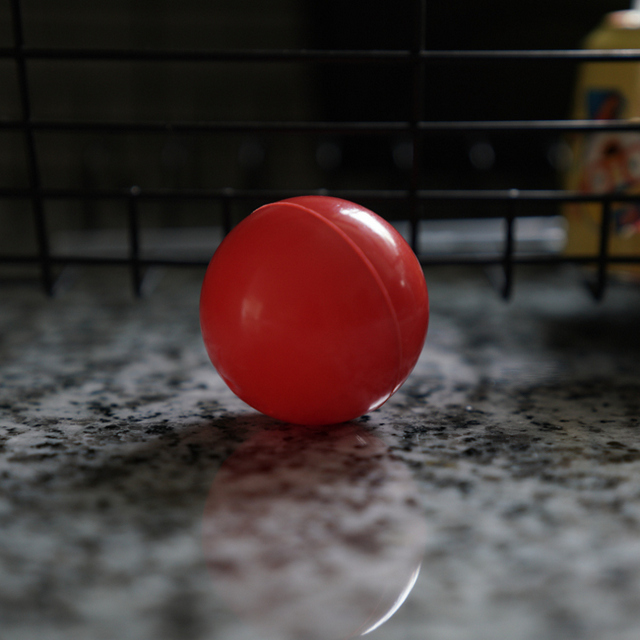Ball: (211, 201, 432, 426)
